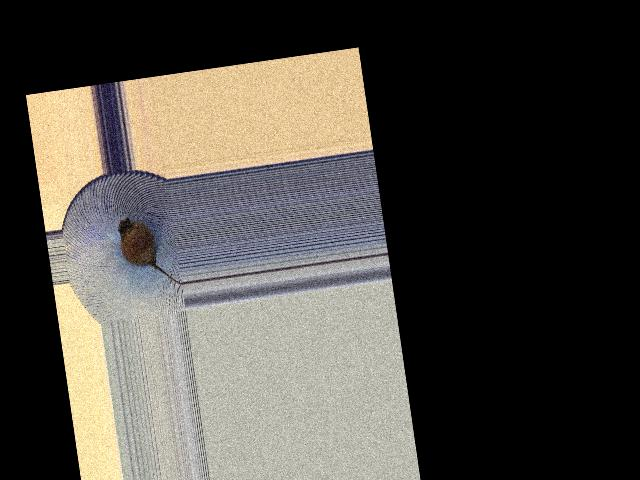beet: (117, 210, 182, 291)
